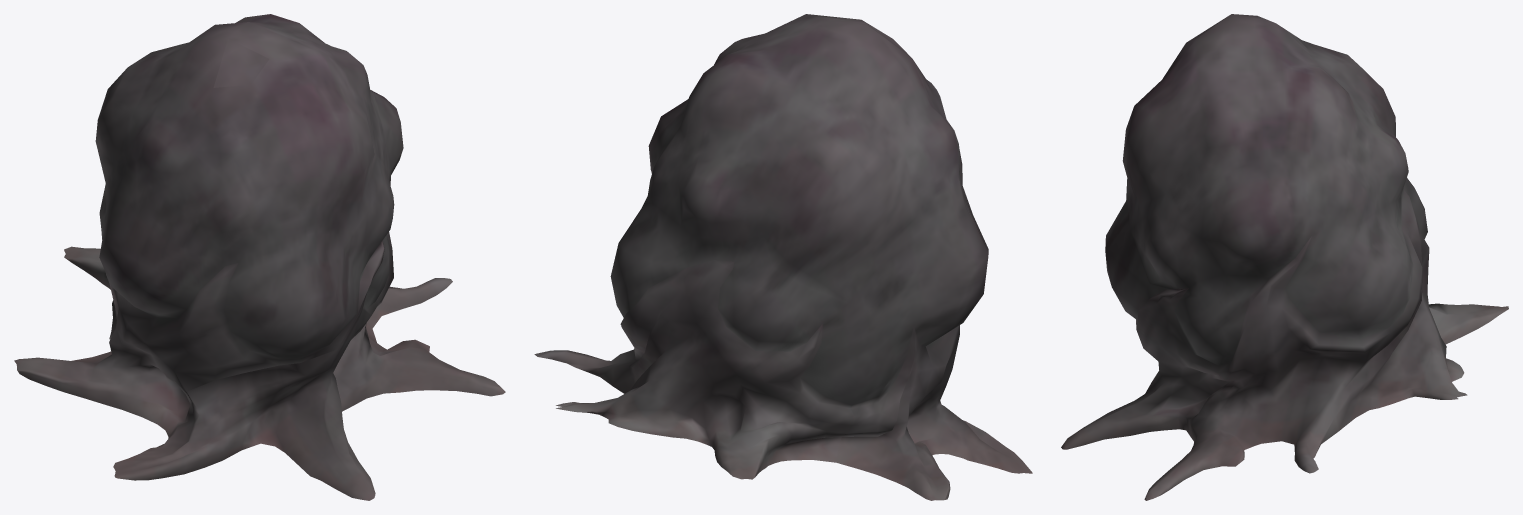
Rendered from Cocoon (26).fbx.
3 views of the same model, side by side, from view 1: azimuth 30°, elevation 25°; view 2: azimuth 150°, elevation 25°; view 3: azimuth 270°, elevation 25° (orthographic). The views are drawn at different scales.
Parts seen in each view (by area): view 1: Egg; view 2: Egg; view 3: Egg.
Part boxes in pixels (left/top/right/bottom): Egg: left=14, top=14, right=505, bottom=500; Egg: left=534, top=14, right=1032, bottom=500; Egg: left=1061, top=14, right=1508, bottom=500.
Size of the model in its own units: 1.61 by 1.57 by 1.57.
1 material, 1 textured.
